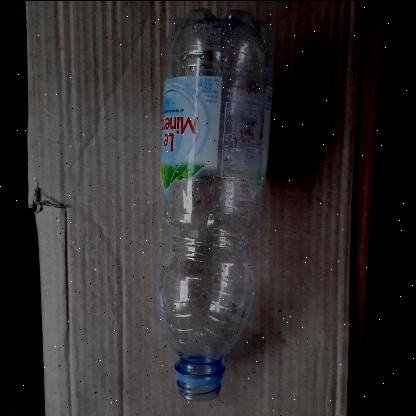Plastic Bottle: (156, 4, 270, 404)
